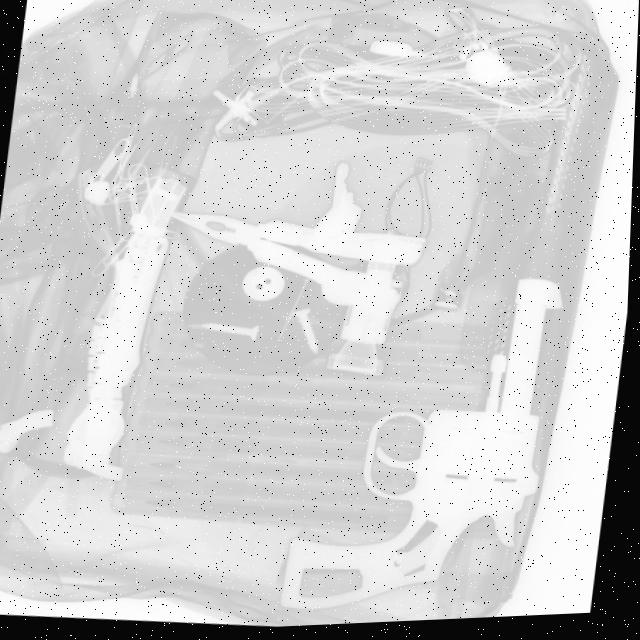pistol: (282, 261, 570, 628)
